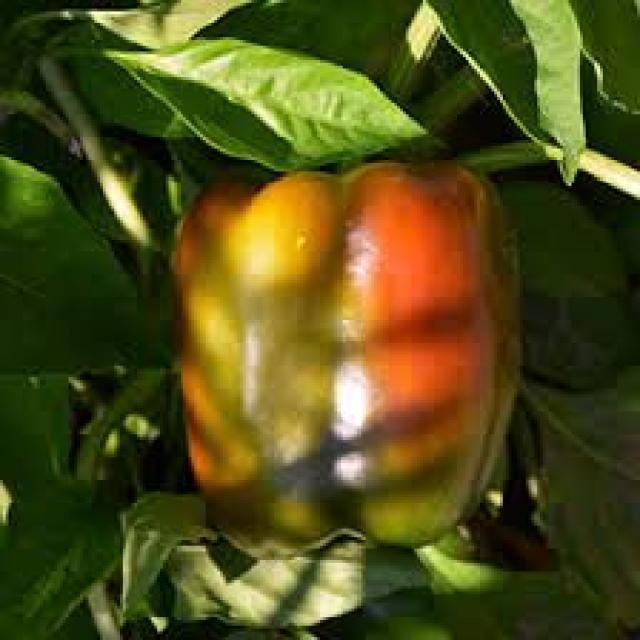bell_pepper: (124, 142, 528, 573)
